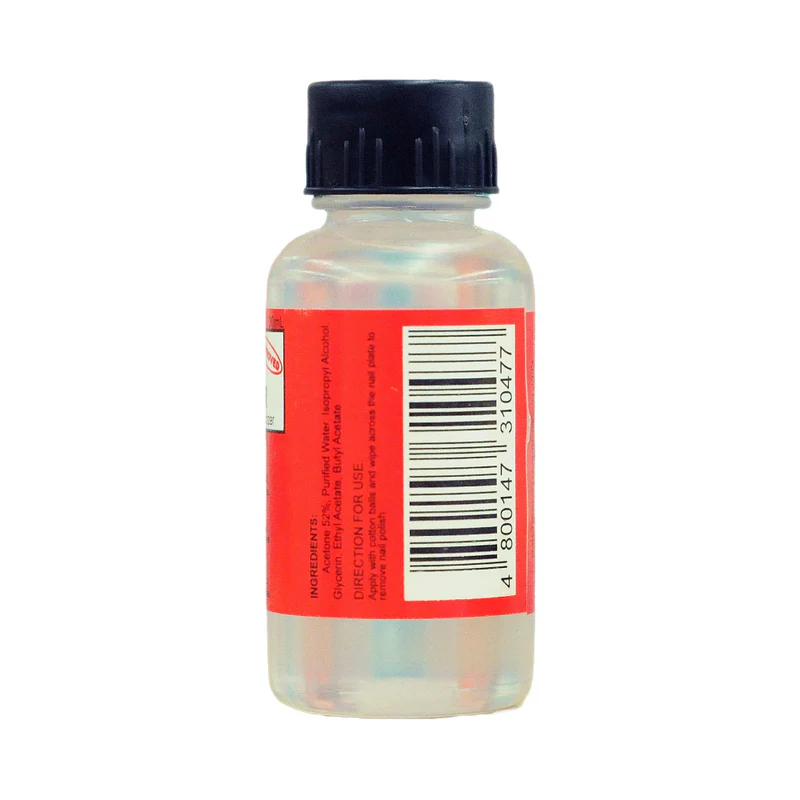toxic_waste: (276, 86, 533, 713)
